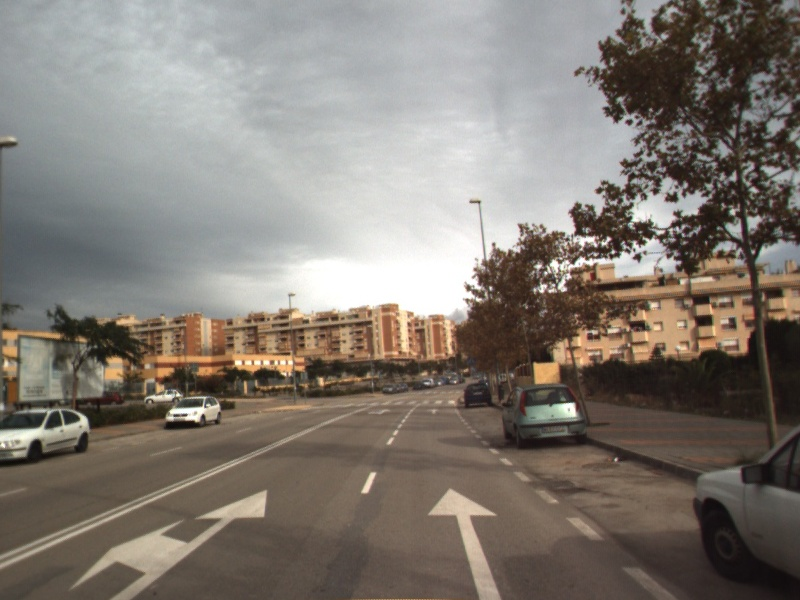STRAIGHT: (425, 484, 506, 600), (425, 407, 442, 416)
STRAIGHT_LEFT: (65, 487, 270, 600), (366, 407, 393, 416)
